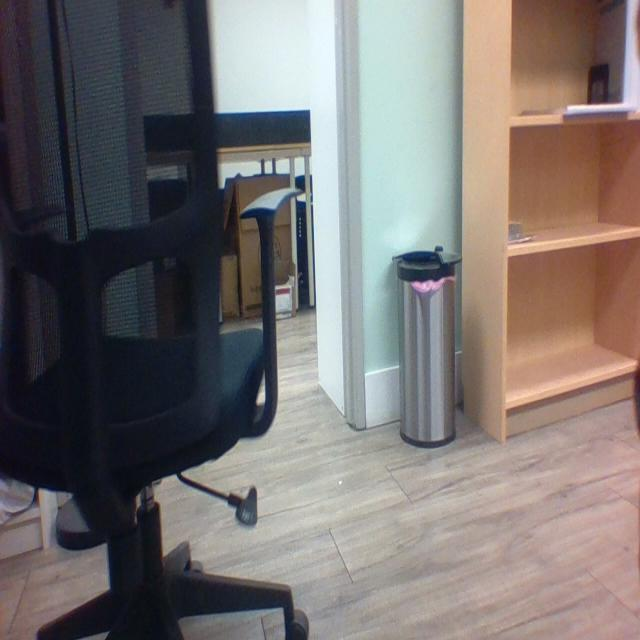chair: (0, 1, 308, 639)
